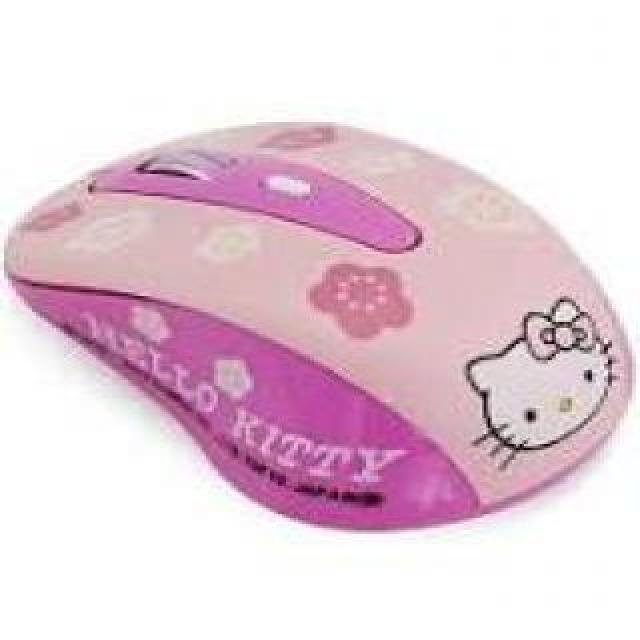mouse: (20, 0, 636, 542)
